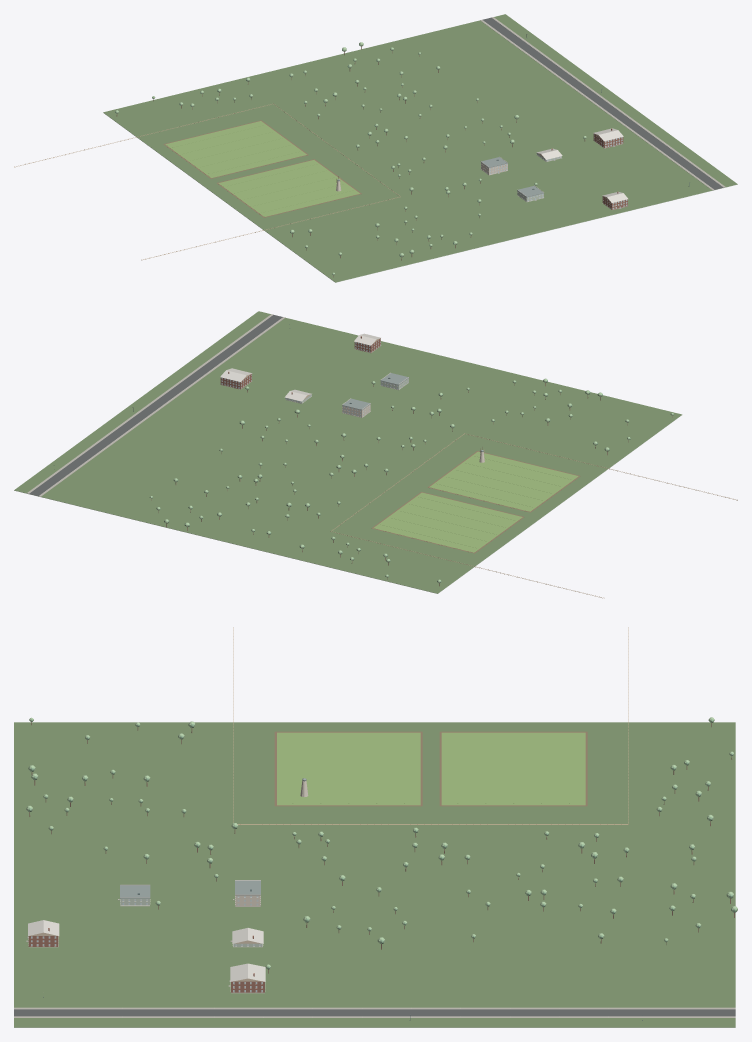
The model's file is chunk_5_1_high.glb.
The picture shows the model from 3 angles, top to bottom: view 1: azimuth 30°, elevation 25°; view 2: azimuth 150°, elevation 25°; view 3: azimuth 270°, elevation 25°; orthographic projection. The views are drawn at different scales.
Visible parts, largest first — view 1: city_forest_floor, city_field_corn, city_world_asphalt, city_world_sidewalk, city_foliage, city_field_soil, city_wood, city_grass, city_roof_tile; view 2: city_forest_floor, city_field_corn, city_world_asphalt, city_world_sidewalk, city_foliage, city_field_soil, city_wood, city_grass, city_roof_tile; view 3: city_forest_floor, city_field_corn, city_world_asphalt, city_world_sidewalk, city_field_soil, city_foliage, city_roof_tile, city_foliage_dark, city_roof_slate, city_wood, city_curb, city_grass (+2 smaller).
Boxes of the visible parts, x1,y1,x2,y2 form: city_forest_floor: (103, 14, 737, 282); city_field_corn: (165, 121, 359, 216); city_world_asphalt: (482, 17, 723, 189); city_world_sidewalk: (480, 17, 725, 208); city_foliage: (115, 42, 586, 275); city_field_soil: (163, 120, 361, 217); city_wood: (14, 103, 400, 260); city_grass: (103, 112, 737, 282); city_roof_tile: (536, 128, 627, 202); city_forest_floor: (14, 311, 681, 593); city_field_corn: (373, 451, 578, 552); city_world_asphalt: (29, 315, 282, 495); city_world_sidewalk: (27, 314, 285, 496); city_foliage: (150, 378, 673, 583); city_field_soil: (371, 451, 580, 553); city_wood: (330, 433, 737, 598); city_grass: (14, 415, 681, 593); city_roof_tile: (220, 333, 380, 401); city_forest_floor: (14, 722, 735, 1027); city_field_corn: (277, 732, 585, 805); city_world_asphalt: (14, 1009, 735, 1016); city_world_sidewalk: (14, 899, 735, 1017); city_field_soil: (274, 731, 587, 806); city_foliage: (26, 717, 737, 969); city_roof_tile: (28, 920, 265, 981); city_foliage_dark: (28, 719, 736, 969); city_roof_slate: (120, 778, 306, 898); city_wood: (233, 627, 628, 824); city_curb: (14, 1008, 735, 1017); city_grass: (14, 1027, 735, 1027).
Bounding box in the file's own units: 669 × 17.91 × 514.
